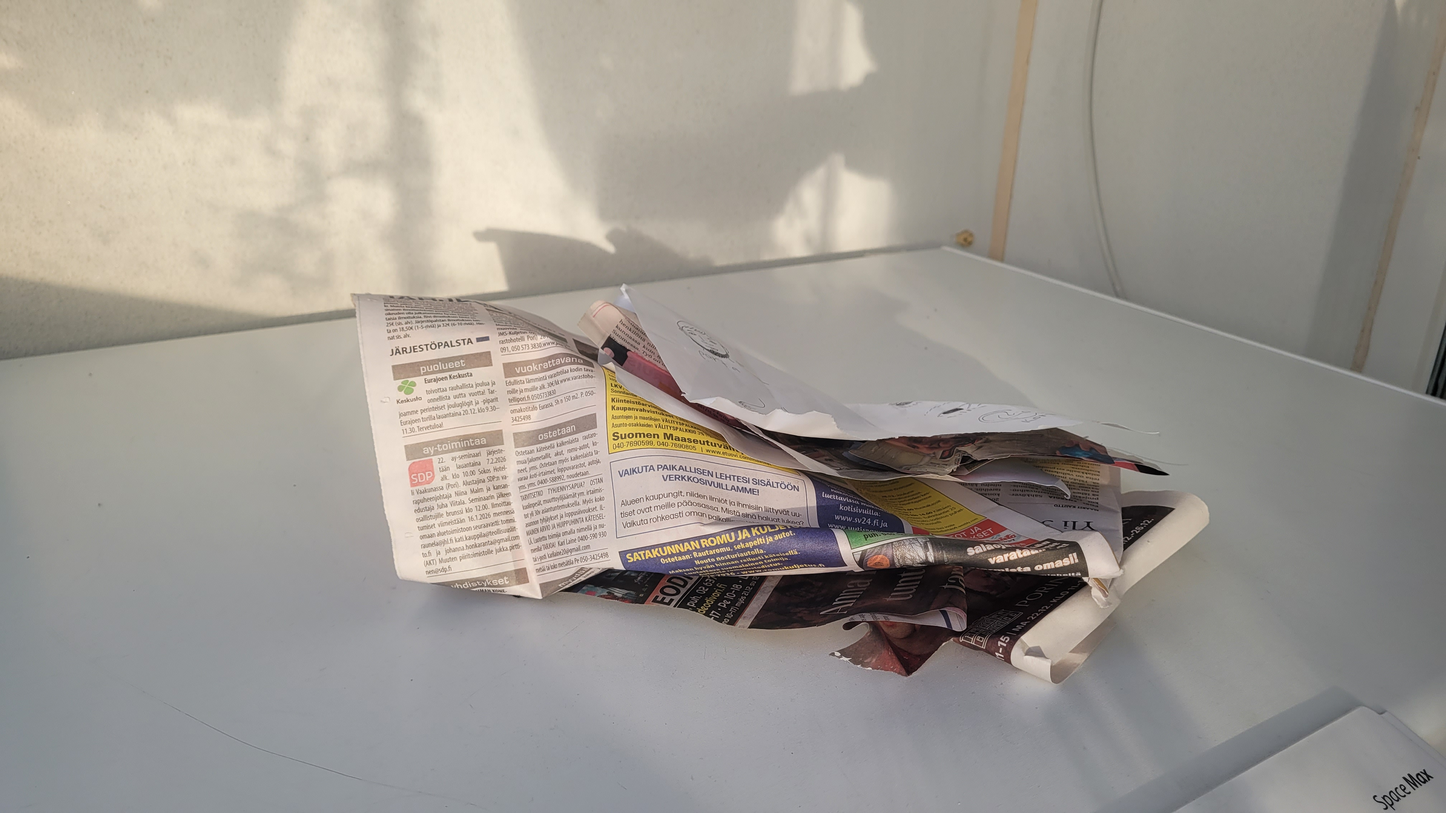paper: (142, 26, 1344, 767)
